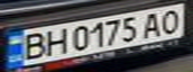0: (69, 22, 90, 52)
1: (87, 20, 106, 48)
5: (118, 14, 145, 43)
7: (103, 17, 124, 46)
A: (139, 10, 166, 38)
B: (15, 29, 51, 61)
H: (39, 27, 69, 56)
O: (157, 7, 187, 35)
